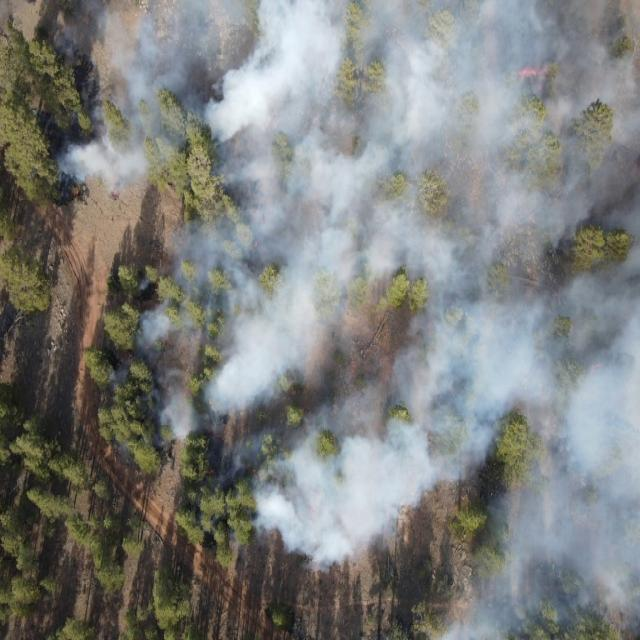fire: (519, 63, 551, 99), (587, 360, 606, 372), (251, 467, 262, 481), (204, 466, 217, 476), (70, 186, 82, 196), (210, 430, 223, 439), (111, 188, 120, 197), (144, 342, 152, 351), (253, 240, 260, 248)
smoke: (204, 202, 640, 487), (41, 0, 640, 202), (490, 489, 640, 640), (251, 488, 428, 567), (167, 221, 204, 438), (138, 300, 168, 445), (468, 586, 491, 640), (225, 530, 250, 566), (133, 268, 166, 292), (106, 364, 128, 391), (110, 438, 132, 464), (443, 621, 469, 640)
